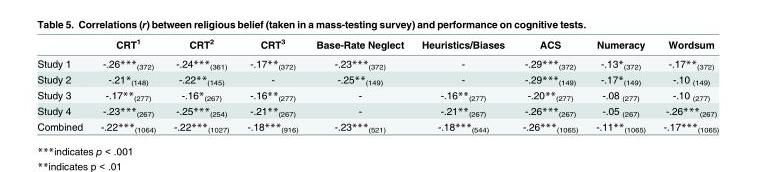table: (36, 36, 718, 132)
table column: (306, 36, 412, 132), (412, 36, 512, 132), (90, 36, 164, 132), (512, 36, 586, 132), (164, 36, 237, 132), (237, 36, 306, 132), (586, 36, 653, 132), (653, 36, 718, 132), (36, 36, 90, 132)
table column header: (36, 36, 718, 53)
table row: (36, 53, 718, 71), (36, 36, 718, 53), (36, 71, 718, 87), (36, 87, 718, 103), (36, 103, 718, 118), (36, 118, 718, 132)
